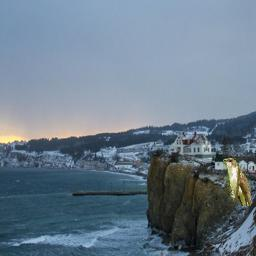Cuckoo: (223, 158, 251, 206)
